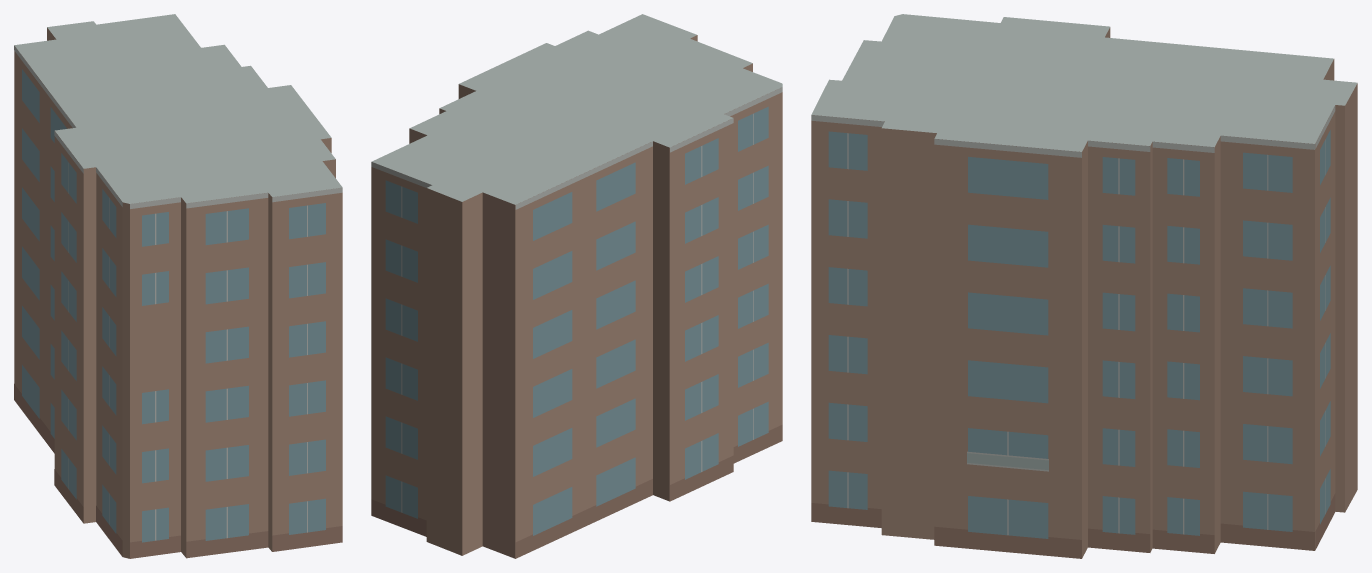
Rendered from survey-upis-32755576.glb.
The picture shows the model from 3 angles, left to right: view 1: azimuth 30°, elevation 25°; view 2: azimuth 150°, elevation 25°; view 3: azimuth 270°, elevation 25°; orthographic projection. The views are drawn at different scales.
Visible parts, largest first — view 1: survey-upis-32755576.tmp; view 2: survey-upis-32755576.tmp; view 3: survey-upis-32755576.tmp.
Boxes of the visible parts, left/top/right/bottom form: survey-upis-32755576.tmp: left=14, top=14, right=342, bottom=558; survey-upis-32755576.tmp: left=371, top=14, right=782, bottom=558; survey-upis-32755576.tmp: left=811, top=14, right=1357, bottom=558.
Bounding box in the file's own units: 12.23 × 16.8 × 20.45.
